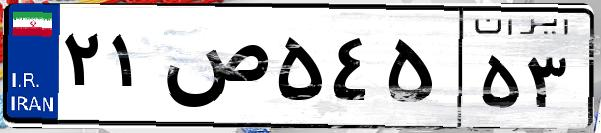1: (110, 28, 158, 98)
2: (57, 26, 110, 100)
3: (525, 38, 570, 115)
4: (330, 28, 385, 110)
5: (270, 28, 330, 110), (385, 28, 445, 110), (475, 38, 525, 113)
ص: (158, 20, 270, 120)
